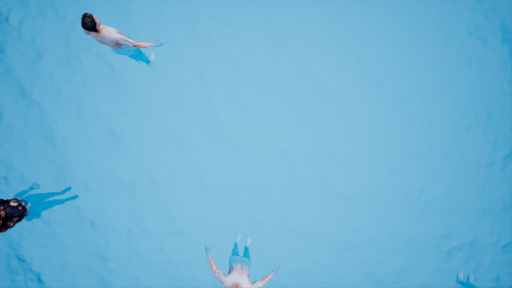person: (81, 14, 169, 70), (1, 187, 90, 239), (196, 234, 280, 288)
